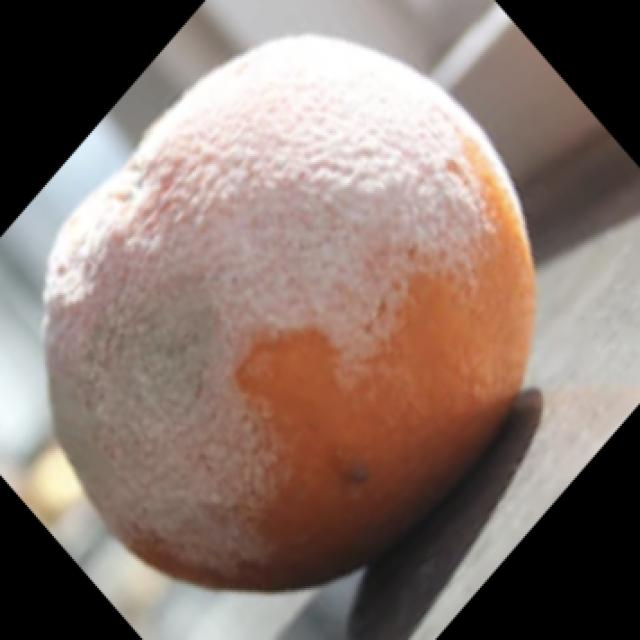sangat_busuk: (32, 24, 545, 593)
